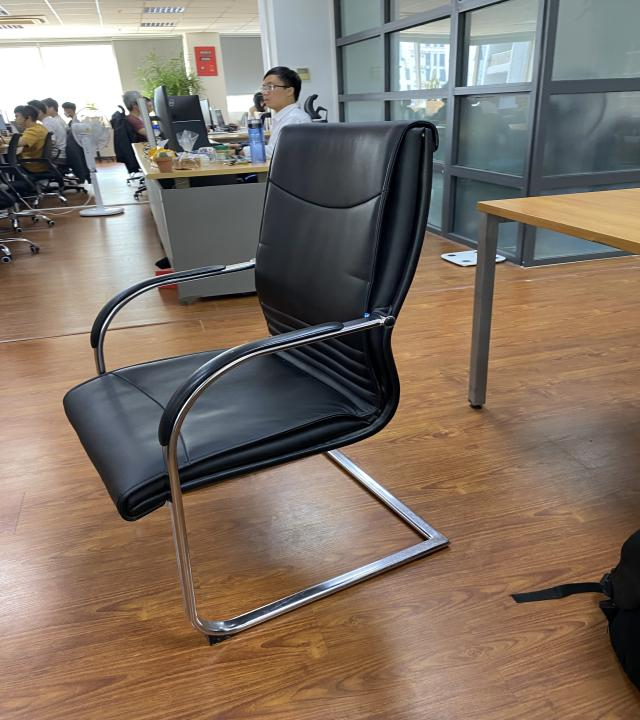SS_03: (61, 115, 451, 648)
